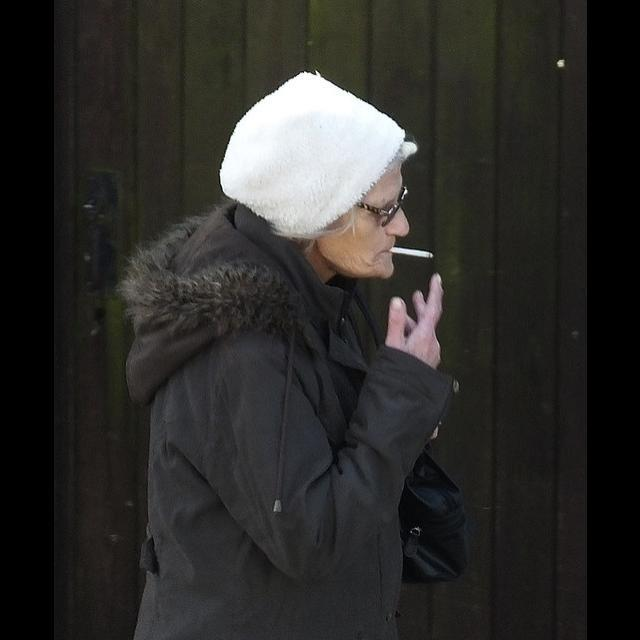rokok: (386, 237, 436, 263)
